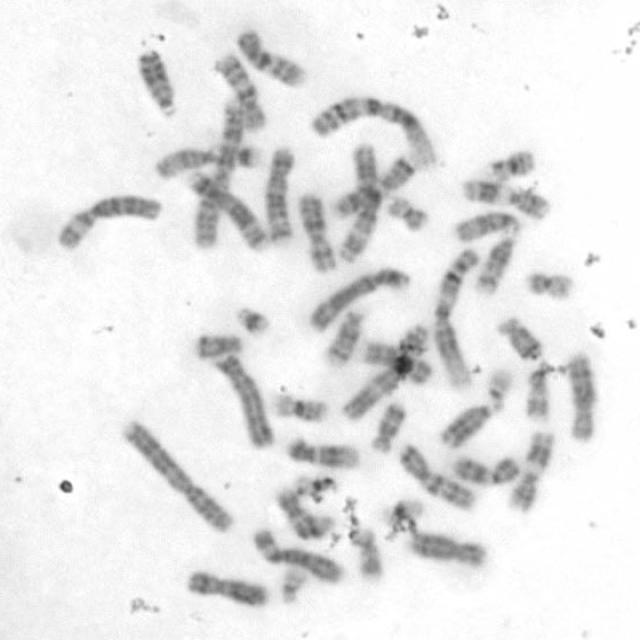A1: (308, 90, 439, 171), (428, 248, 484, 394)
A2: (116, 413, 238, 538), (188, 99, 244, 250)
A3: (340, 326, 433, 422), (335, 138, 380, 264)
B4: (304, 263, 411, 339), (216, 354, 275, 451)
B5: (185, 169, 269, 251), (263, 144, 296, 245)
C10: (235, 28, 311, 90), (212, 52, 271, 131)
C11: (504, 428, 558, 518), (457, 177, 553, 222)
C12: (274, 488, 337, 543), (285, 434, 362, 469)
C6: (56, 194, 162, 253), (249, 527, 348, 586)
C7: (324, 153, 414, 221), (399, 442, 478, 512)
C8: (563, 353, 600, 447), (412, 528, 491, 572)
C9: (356, 332, 436, 389), (449, 450, 525, 486)
D13: (132, 44, 180, 118), (438, 400, 504, 451)
D14: (473, 226, 525, 298), (322, 306, 367, 370)
D15: (151, 146, 220, 182), (452, 208, 521, 244)
E16: (271, 391, 332, 426), (485, 148, 538, 182)
E17: (350, 528, 385, 582), (523, 367, 552, 424)
E18: (495, 313, 544, 363), (368, 402, 409, 454), (193, 331, 247, 361)
F19: (378, 497, 422, 528), (293, 474, 338, 496)
F20: (526, 268, 576, 303), (386, 193, 429, 233)
G21: (234, 303, 274, 339), (229, 142, 264, 170)
G22: (485, 366, 514, 410), (278, 564, 306, 603)
X: (296, 189, 341, 277), (185, 568, 273, 607)
